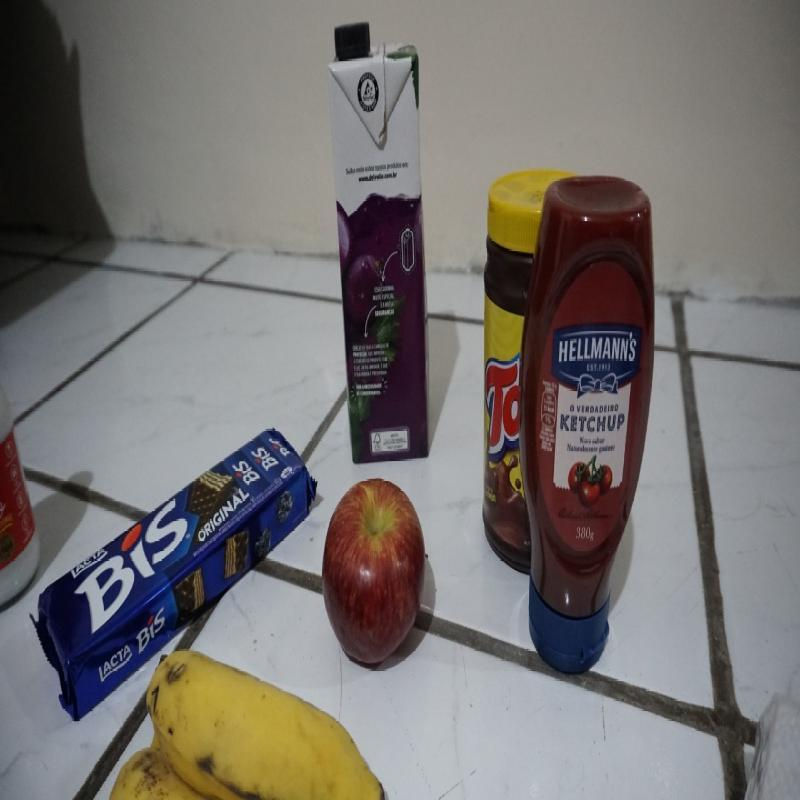Apple: (322, 478, 425, 669)
Banana: (105, 649, 394, 800)
Chocolate Powder: (479, 166, 544, 594)
Coconut Milk: (0, 374, 40, 608)
Mayonnaise: (515, 172, 657, 676)
